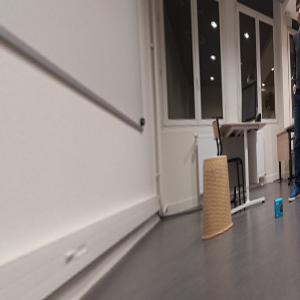medium: (202, 156, 234, 236)
small: (274, 197, 285, 217)
